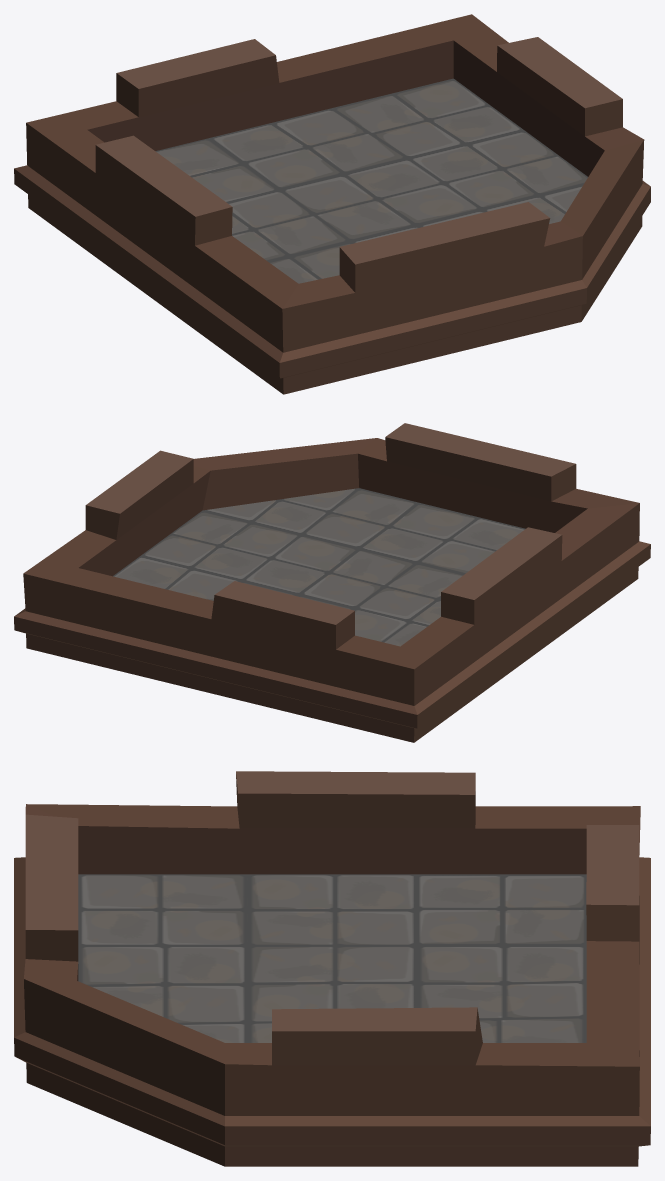
Rendered from RoofTop_E06.fbx.
The picture shows the model from 3 angles, top to bottom: view 1: azimuth 30°, elevation 25°; view 2: azimuth 150°, elevation 25°; view 3: azimuth 270°, elevation 25°; orthographic projection. The views are drawn at different scales.
Visible parts, largest first — view 1: RoofTop_E06; view 2: RoofTop_E06; view 3: RoofTop_E06.
Boxes of the visible parts, <box> form: RoofTop_E06: <box>14,14,650,394</box>; RoofTop_E06: <box>14,423,650,742</box>; RoofTop_E06: <box>14,771,650,1166</box>.
Bounding box in the file's own units: 638 × 152 × 639.
